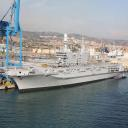Portanaves: (5, 31, 125, 96)
